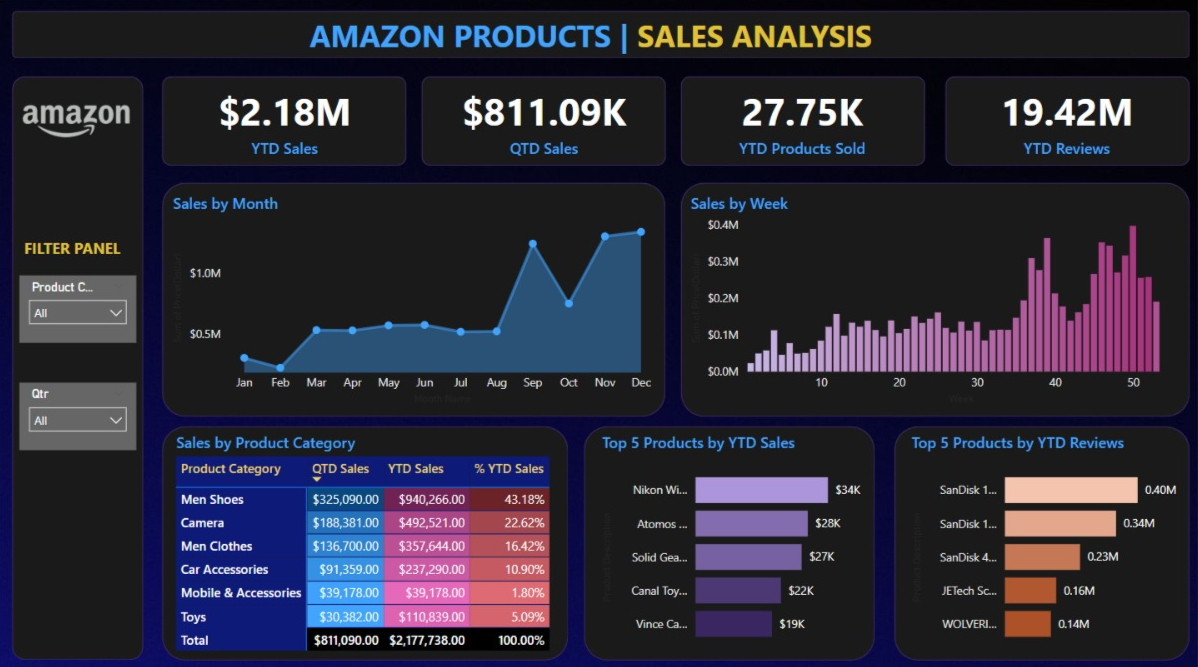

Layout of this report page (visuals, bound fields, positions):
{"tool":"powerbi","page":{"name":"Page 1","canvas":[1280,720],"ordinal":0},"visuals":[{"type":"shape","box":[14.5,14.5,1255.9,50.7],"z":0},{"type":"shape","box":[174.9,84.5,260.6,95.3],"z":1000},{"type":"textbox","box":[326.9,14.5,624.9,66.4],"z":2000},{"type":"shape","box":[14.5,84.5,139.9,622.5],"z":3000},{"type":"card","fields":{"Values":["Amazon_Data.YTD Sales"]},"box":[181,84.5,248.5,95.3],"z":4000},{"type":"shape","box":[451.2,84.5,260.6,95.3],"z":5000},{"type":"shape","box":[727.5,84.5,260.6,95.3],"z":6000},{"type":"shape","box":[1009.8,84.5,260.6,95.3],"z":7000},{"type":"shape","box":[174.9,197.9,536.9,249.7],"z":8000},{"type":"card","fields":{"Values":["Amazon_Data.QTD Sales"]},"box":[457.2,84.5,248.5,95.3],"z":9000},{"type":"card","fields":{"Values":["Amazon_Data.YTD Products Sold"]},"box":[733.5,84.5,248.5,95.3],"z":10000},{"type":"card","fields":{"Values":["Amazon_Data.YTD Reviews"]},"box":[1015.8,84.5,248.5,95.3],"z":11000},{"type":"areaChart","title":"Sales by Month","fields":{"Category":["Date Table.Month Name"],"Y":["Sum(Amazon_Data.Price(Dollar))"]},"box":[181,207.5,524.8,231.6],"z":12000},{"type":"shape","box":[727.5,197.9,542.9,249.7],"z":13000},{"type":"columnChart","title":"Sales by Week","fields":{"Category":["Date Table.Week"],"Y":["Sum(Amazon_Data.Price(Dollar))"]},"box":[733.5,207.5,530.8,231.6],"z":14000},{"type":"shape","box":[174.9,457.2,433.1,249.7],"z":15000},{"type":"pivotTable","title":"Sales by Product Category","fields":{"Rows":["Amazon_Data.Product Category"],"Values":["Amazon_Data.QTD Sales","Amazon_Data.YTD Sales1","Amazon_Data.YTD Sales"]},"box":[184.6,463.3,413.8,238.9],"z":16000},{"type":"shape","box":[624.9,457.2,310.1,249.7],"z":17000},{"type":"shape","box":[955.5,457.2,314.9,249.7],"z":18000},{"type":"clusteredBarChart","title":"Top 5 Products by YTD Sales","fields":{"Category":["Amazon_Data.Product Description"],"Y":["Amazon_Data.YTD Sales"]},"box":[639,463.1,296.1,239.3],"z":19000},{"type":"clusteredBarChart","title":"Top 5 Products by YTD Reviews","fields":{"Category":["Amazon_Data.Product Description"],"Y":["Amazon_Data.YTD Reviews"]},"box":[968.5,463.1,297.2,239.3],"z":20000},{"type":"slicer","fields":{"Values":["Amazon_Data.Product Category"]},"box":[22.3,297.2,124.7,72.4],"z":21000},{"type":"slicer","fields":{"Values":["Date Table.Qtr"]},"box":[22.3,410.8,124.7,72.4],"z":22000},{"type":"image","box":[14.5,65.1,139.9,139.9],"z":23000},{"type":"textbox","box":[21.7,250.9,139.9,32.6],"z":24000}]}

Visuals, with their boxes in screenshot pixels (x1, y1, x2, y2), scaled from the page's 1280x720 canvas onto the 1198x667 screenshot:
shape: x1=14 y1=13 x2=1189 y2=60
shape: x1=164 y1=78 x2=408 y2=167
textbox: x1=306 y1=13 x2=891 y2=75
shape: x1=14 y1=78 x2=145 y2=655
card - Amazon_Data.YTD Sales: x1=169 y1=78 x2=402 y2=167
shape: x1=422 y1=78 x2=666 y2=167
shape: x1=681 y1=78 x2=925 y2=167
shape: x1=945 y1=78 x2=1189 y2=167
shape: x1=164 y1=183 x2=666 y2=415
card - Amazon_Data.QTD Sales: x1=428 y1=78 x2=660 y2=167
card - Amazon_Data.YTD Products Sold: x1=687 y1=78 x2=919 y2=167
card - Amazon_Data.YTD Reviews: x1=951 y1=78 x2=1183 y2=167
"Sales by Month" areaChart: x1=169 y1=192 x2=661 y2=407
shape: x1=681 y1=183 x2=1189 y2=415
"Sales by Week" columnChart: x1=687 y1=192 x2=1183 y2=407
shape: x1=164 y1=424 x2=569 y2=655
"Sales by Product Category" pivotTable: x1=173 y1=429 x2=560 y2=651
shape: x1=585 y1=424 x2=875 y2=655
shape: x1=894 y1=424 x2=1189 y2=655
"Top 5 Products by YTD Sales" clusteredBarChart: x1=598 y1=429 x2=875 y2=651
"Top 5 Products by YTD Reviews" clusteredBarChart: x1=906 y1=429 x2=1185 y2=651
slicer - Amazon_Data.Product Category: x1=21 y1=275 x2=138 y2=342
slicer - Date Table.Qtr: x1=21 y1=381 x2=138 y2=448
image: x1=14 y1=60 x2=145 y2=190
textbox: x1=20 y1=232 x2=151 y2=263
